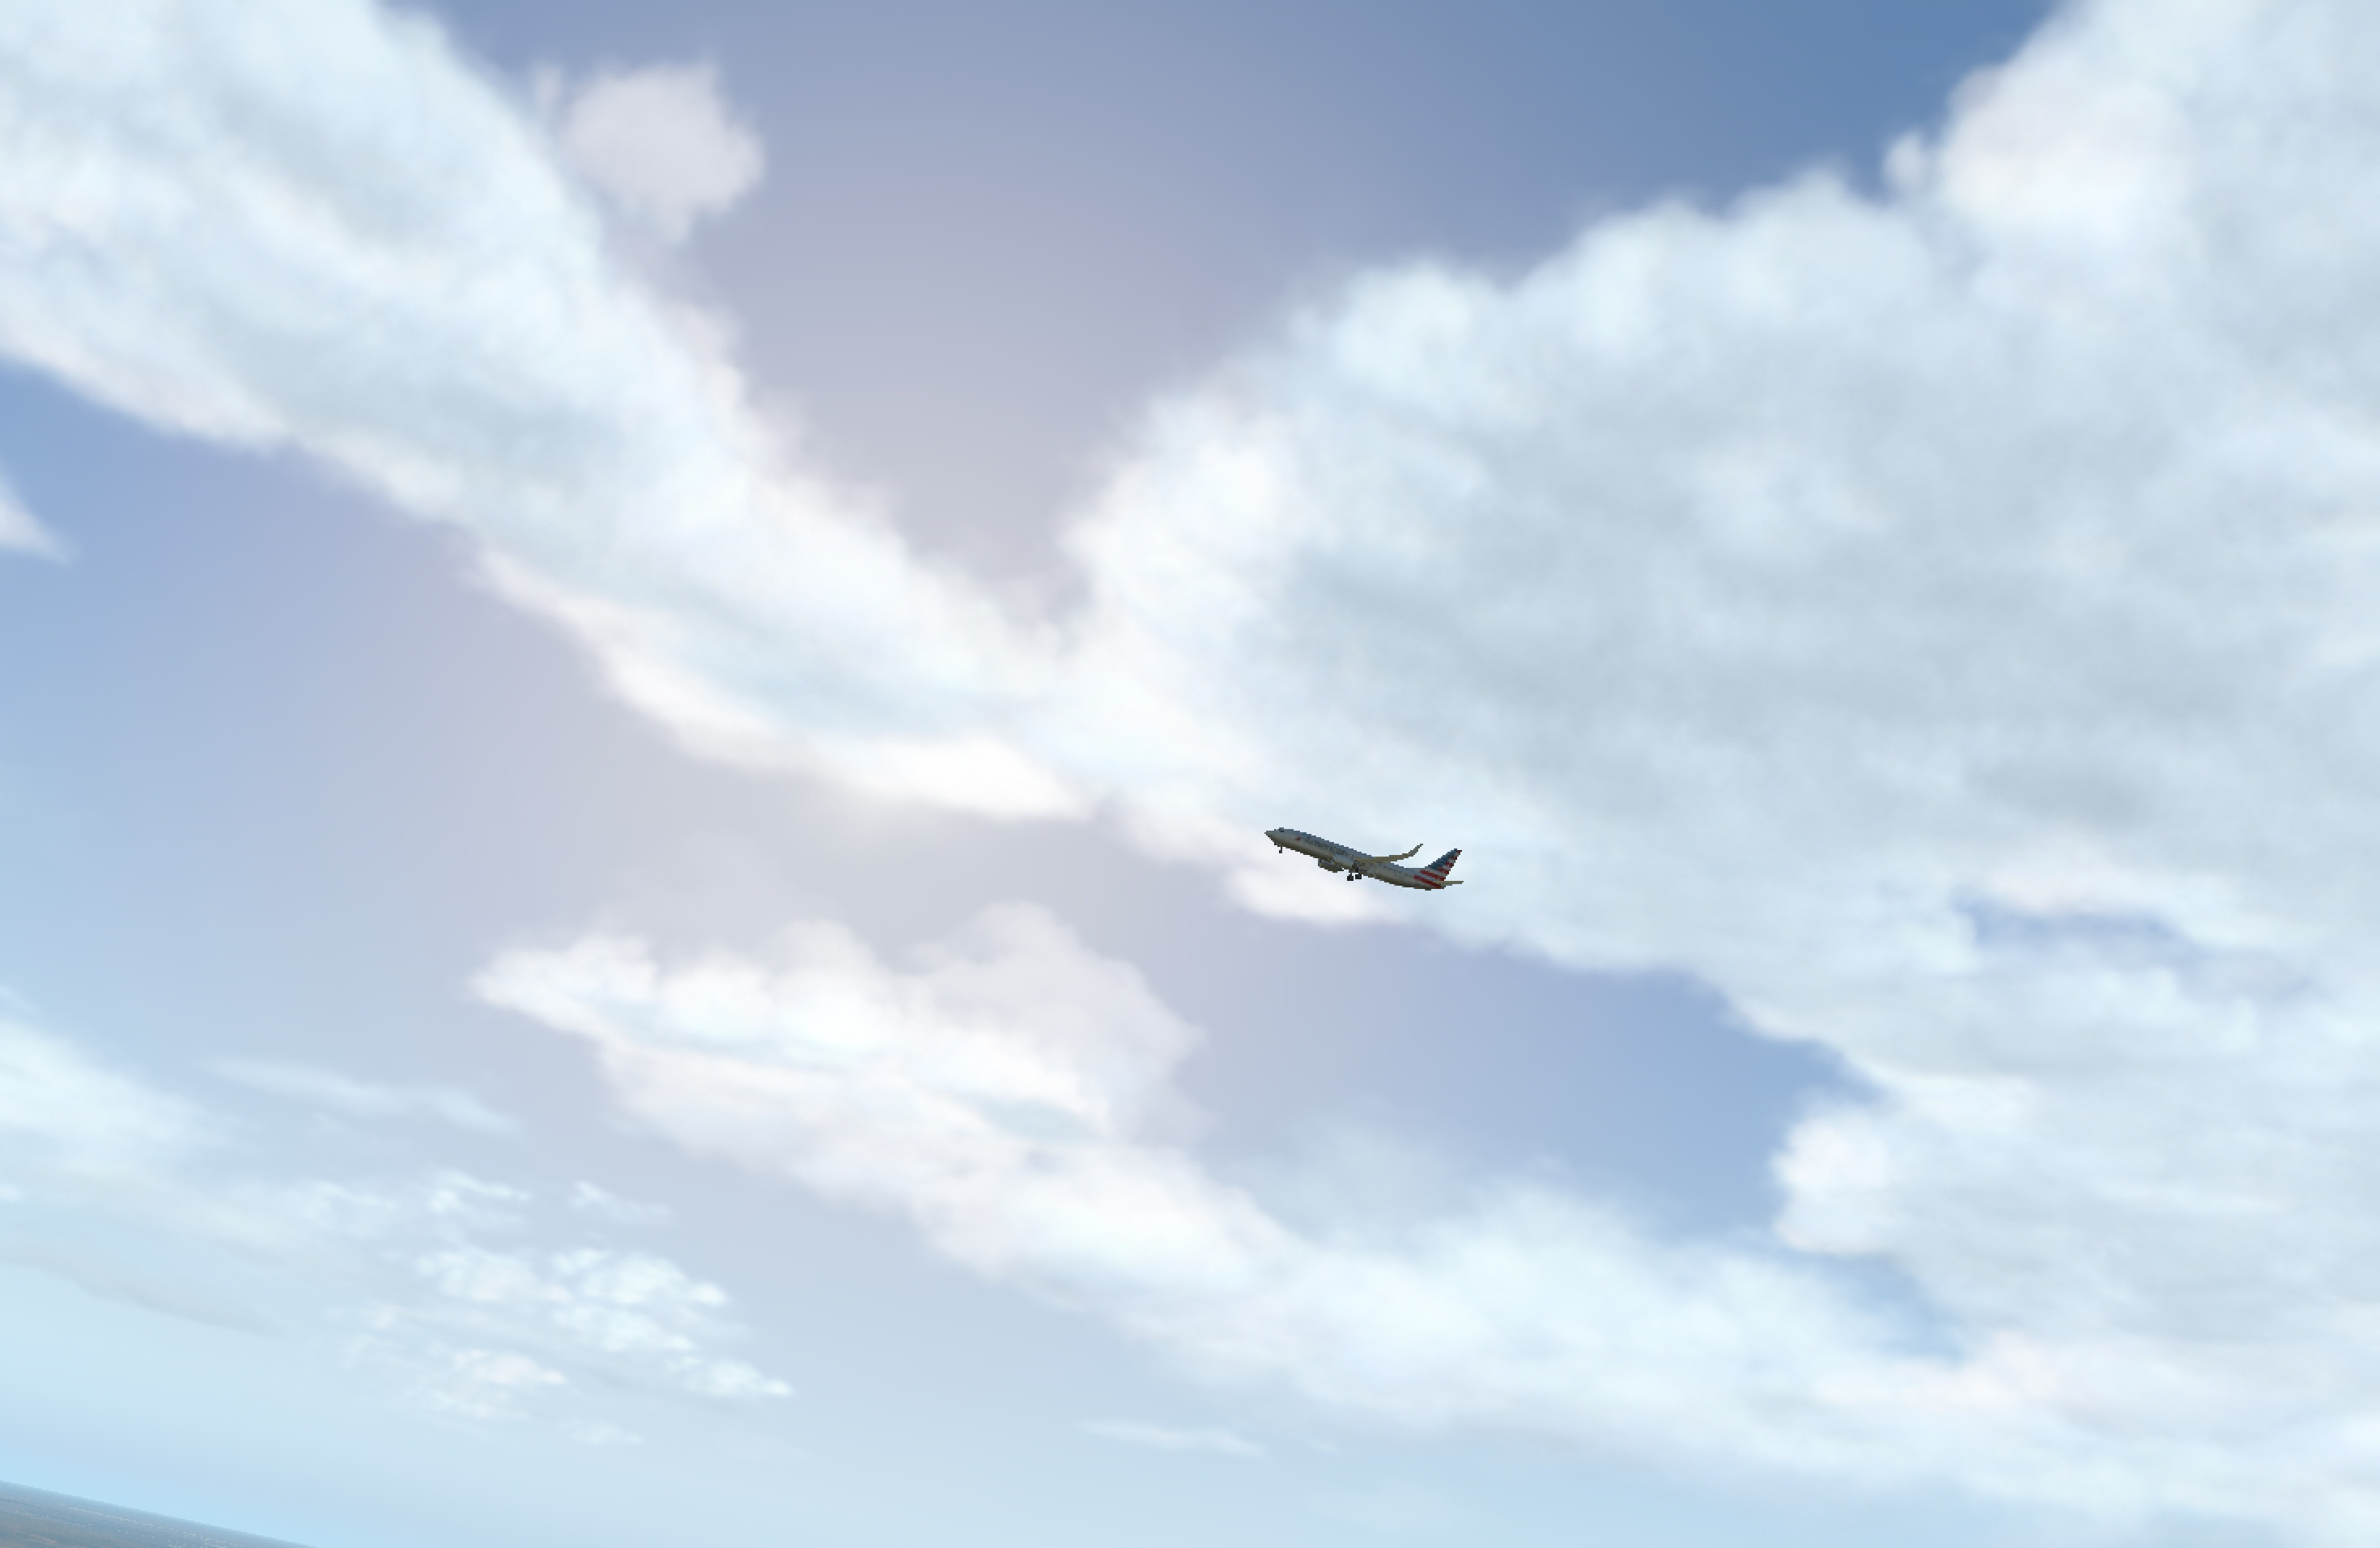aircraft: (1251, 826, 1452, 901)
